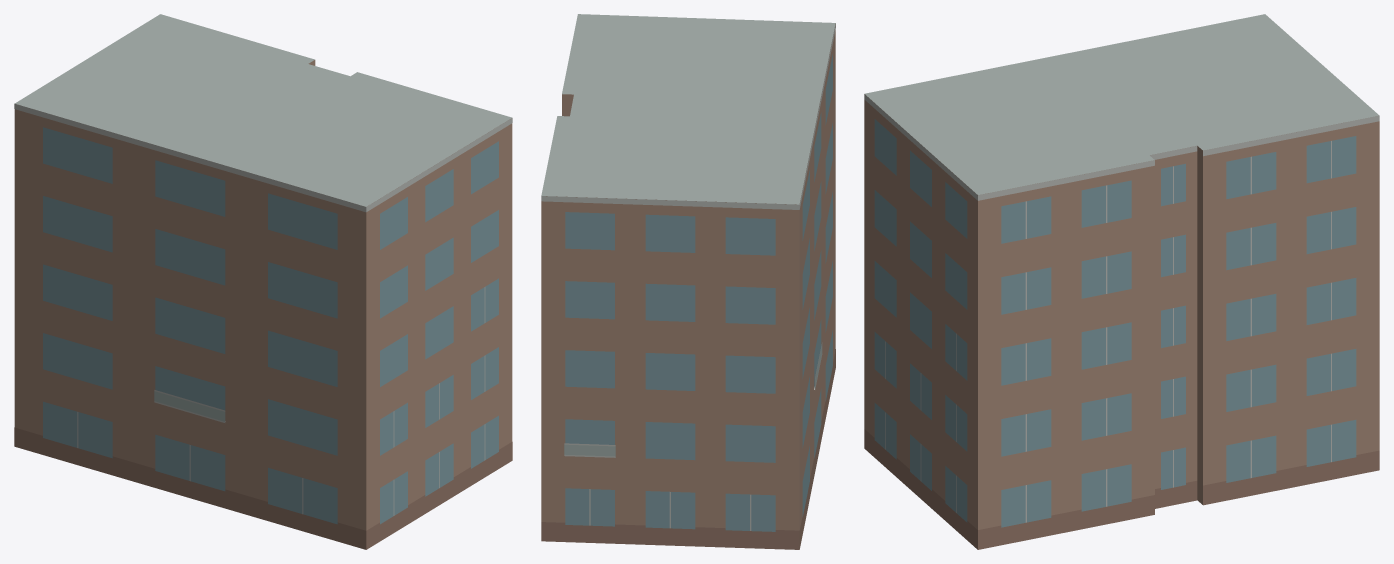
The model's file is survey-upis-32725041.glb.
3 views of the same model, side by side, from view 1: azimuth 30°, elevation 25°; view 2: azimuth 150°, elevation 25°; view 3: azimuth 270°, elevation 25° (orthographic). The views are drawn at different scales.
Parts seen in each view (by area): view 1: survey-upis-32725041.tmp; view 2: survey-upis-32725041.tmp; view 3: survey-upis-32725041.tmp.
Boxes of the visible parts, bbox=[...] form: survey-upis-32725041.tmp: bbox=[14, 14, 512, 549]; survey-upis-32725041.tmp: bbox=[541, 14, 835, 549]; survey-upis-32725041.tmp: bbox=[864, 14, 1379, 549].
Bounding box in the file's own units: 16.77 × 15.3 × 20.15.
